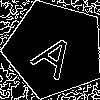A: (29, 24, 86, 81)
